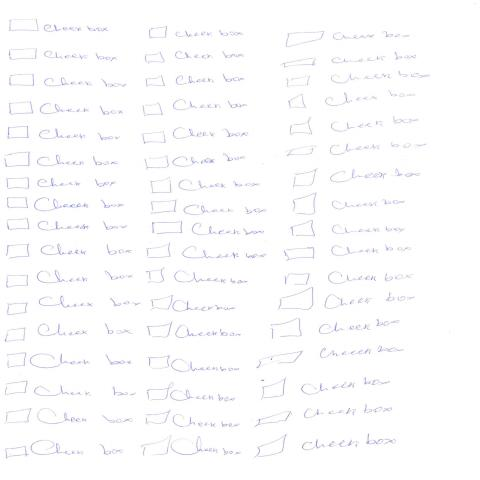Check Box: (7, 296, 143, 317), (4, 324, 133, 344), (5, 270, 135, 289), (5, 440, 125, 460), (150, 177, 261, 195), (142, 100, 249, 118), (6, 197, 125, 213), (3, 153, 120, 169), (143, 128, 250, 145), (152, 221, 267, 236), (7, 126, 120, 141), (9, 75, 128, 89), (150, 201, 269, 215), (8, 49, 119, 64), (9, 102, 125, 116), (6, 219, 129, 232), (148, 356, 242, 373), (8, 19, 109, 33), (6, 178, 117, 190), (148, 27, 244, 40)
